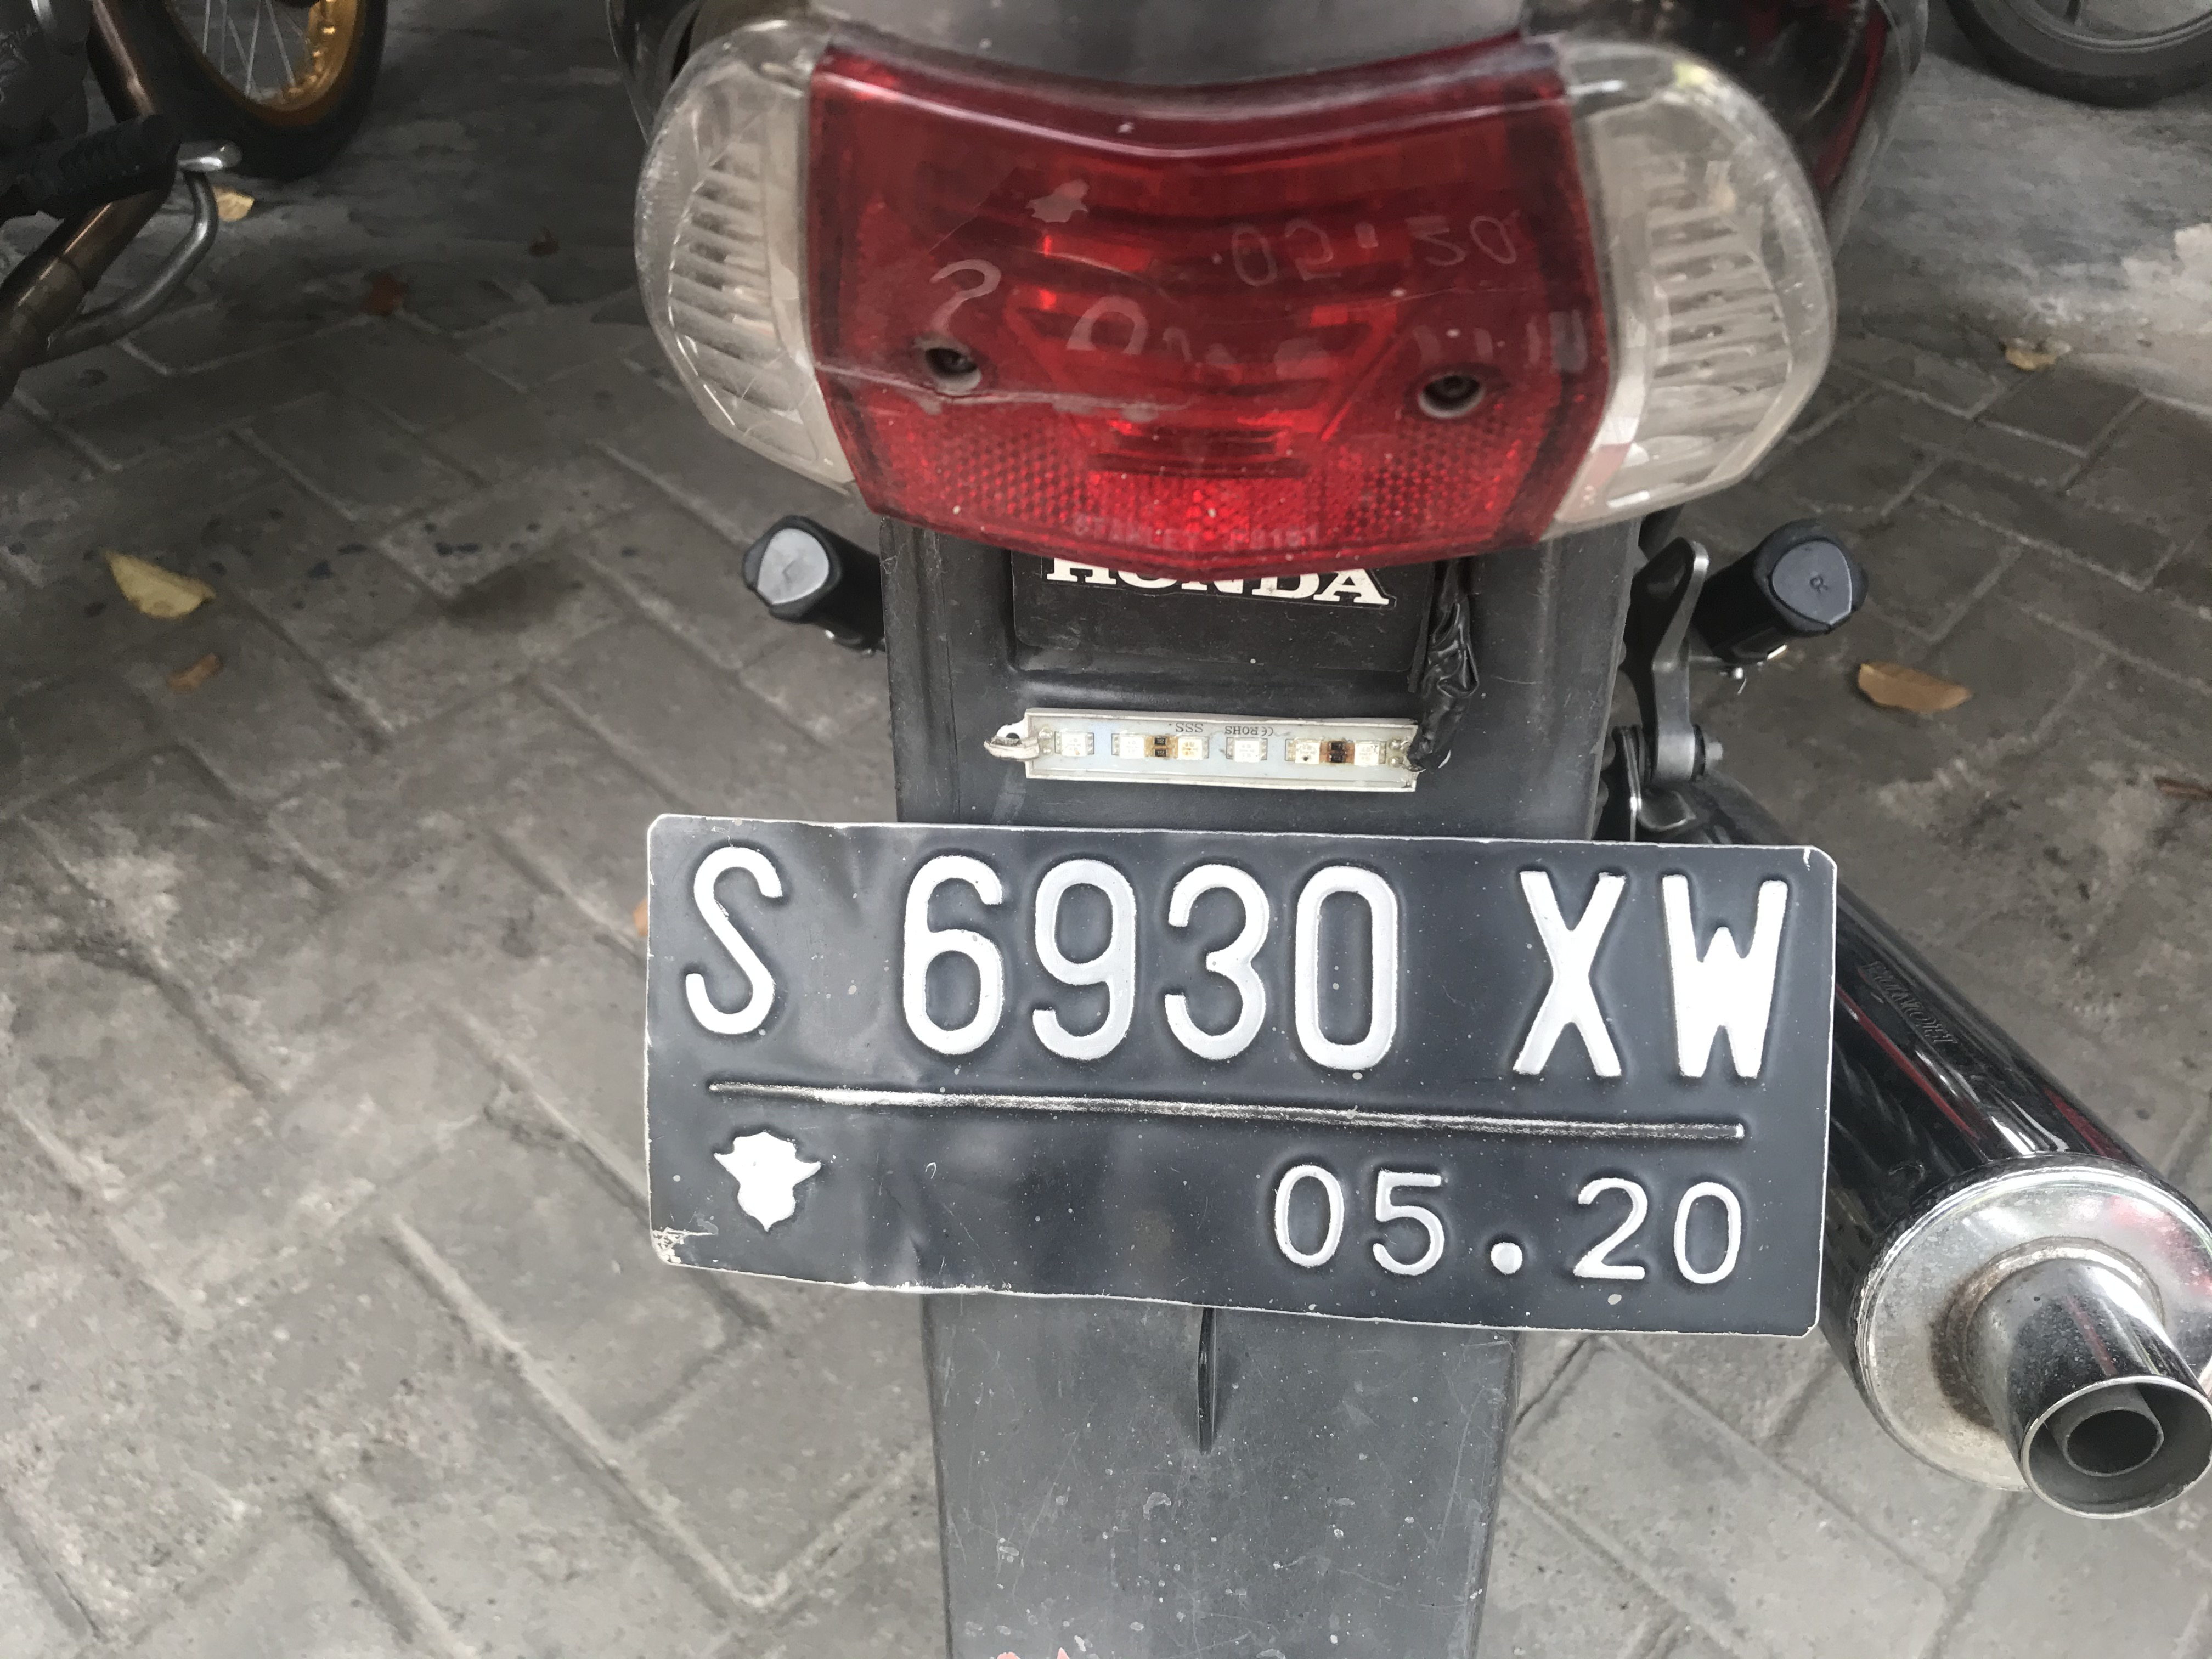plate: (641, 809, 1836, 1335)
